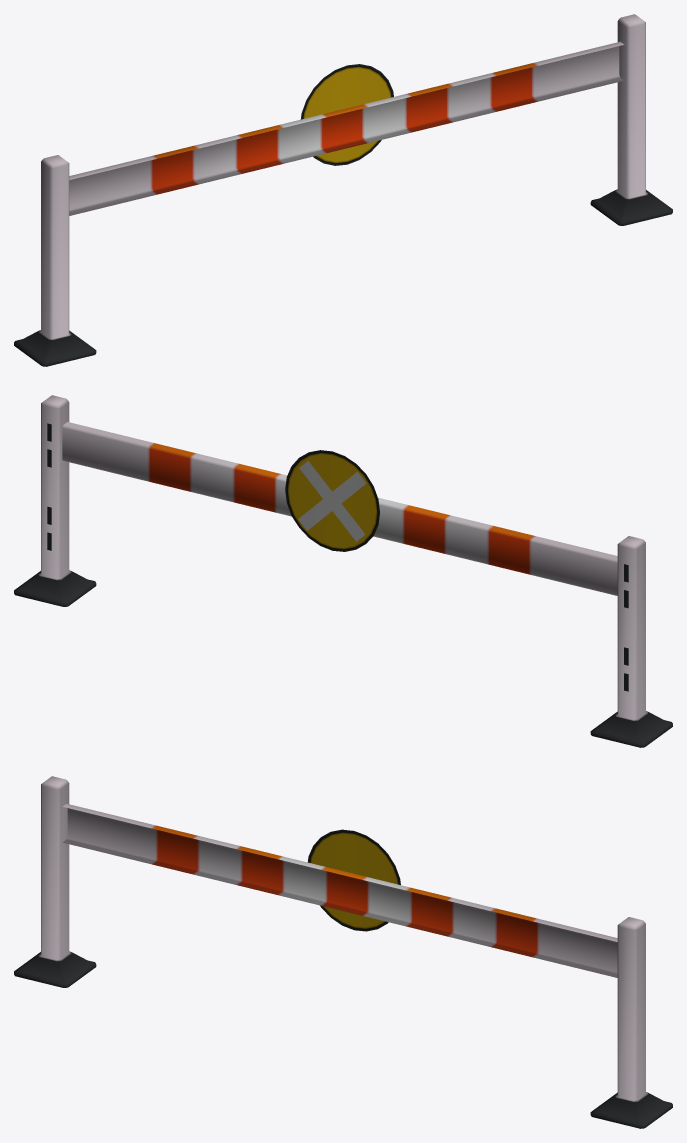
The model's file is RoadWorksBarrierHigh.fbx.
The picture shows the model from 3 angles, top to bottom: view 1: azimuth 30°, elevation 25°; view 2: azimuth 150°, elevation 25°; view 3: azimuth 330°, elevation 25°; orthographic projection.
Parts seen in each view (by area): view 1: RoadWorksBarrierHigh; view 2: RoadWorksBarrierHigh; view 3: RoadWorksBarrierHigh.
Part boxes in pixels (x1,y1,x2,y2): RoadWorksBarrierHigh: [14, 14, 672, 366]; RoadWorksBarrierHigh: [14, 395, 672, 747]; RoadWorksBarrierHigh: [14, 776, 672, 1128].
Bounding box in the file's own units: 497 × 158 × 42.57.
